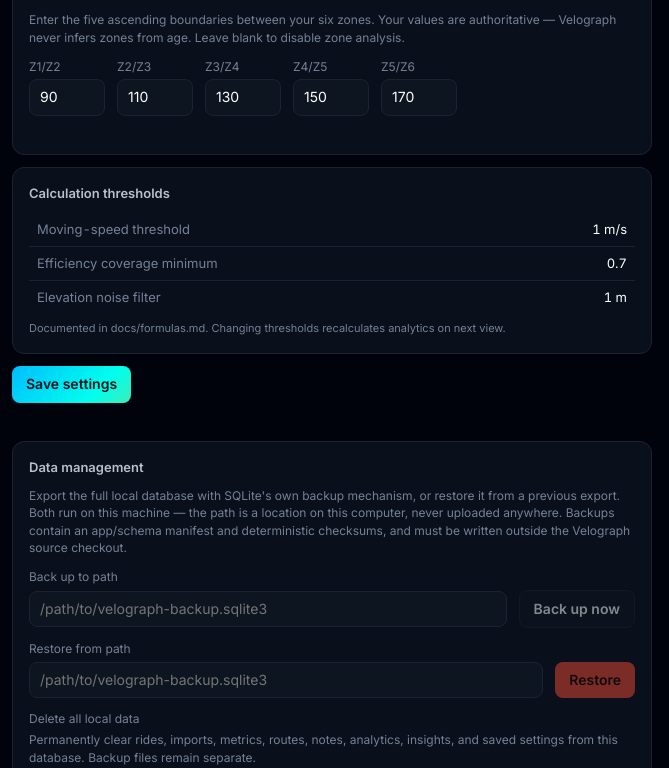
Test: Settings save feedback › submits null only when all five configured zone fields are explicitly blanked
The image size is (669, 768).
(page scrolled)
Clear the number field labelled "Z1/Z2": (67, 97) [29,79,105,116]
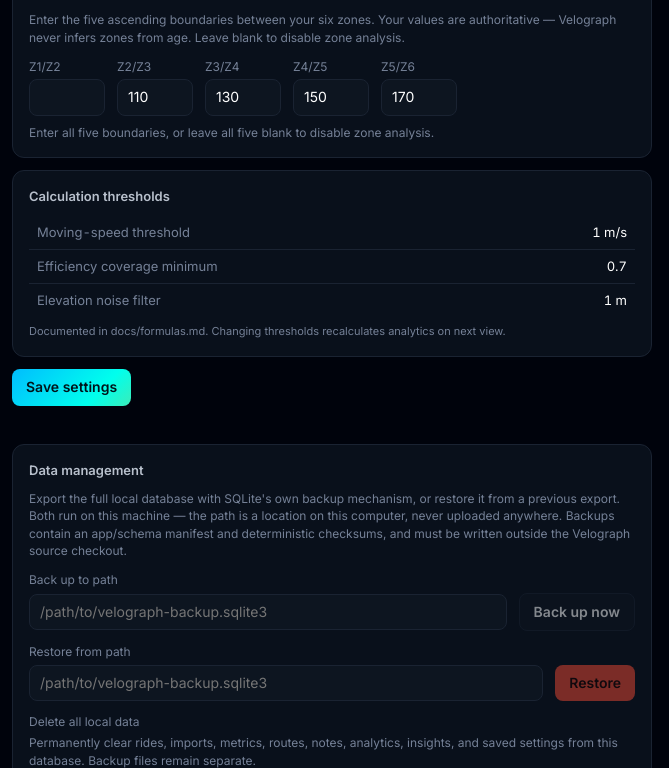
Clear the number field labelled "Z2/Z3": (155, 97) [117,79,193,116]
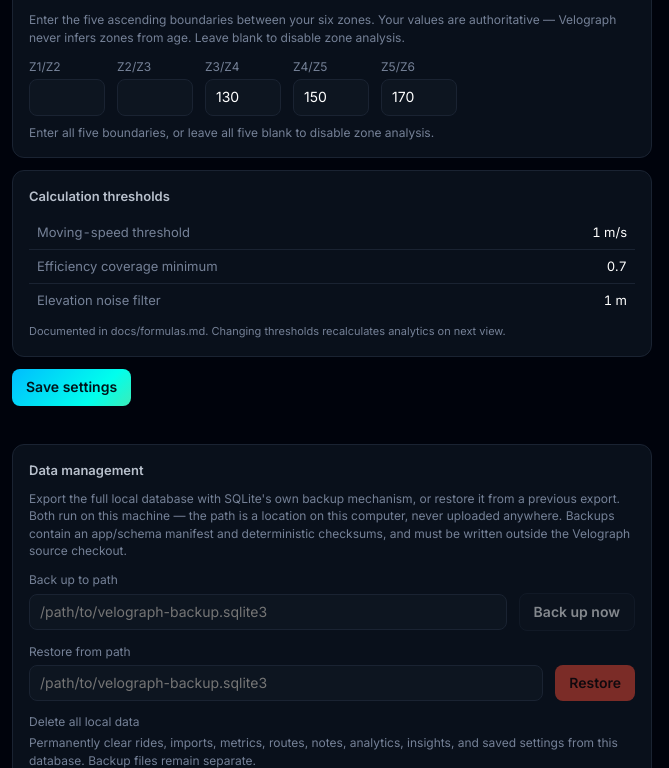
Clear the number field labelled "Z3/Z4": (243, 97) [205,79,281,116]
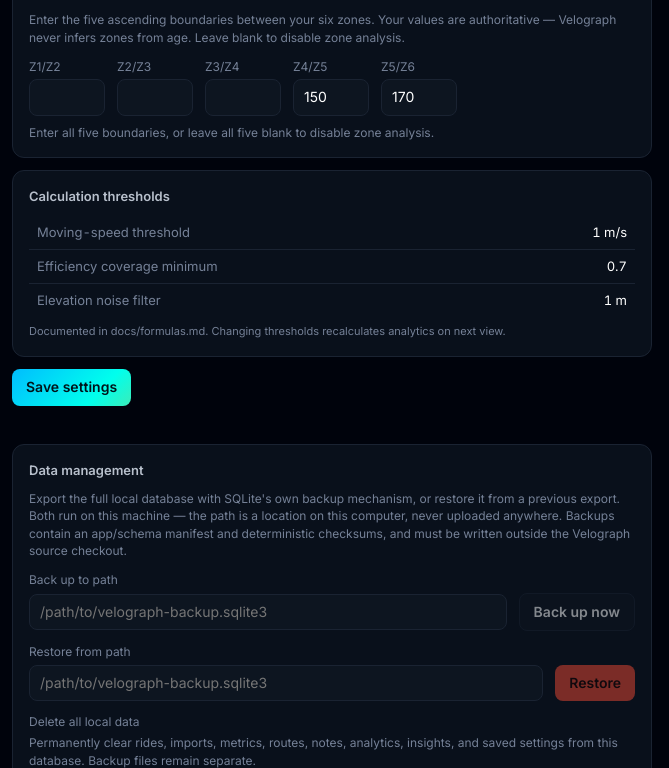
Clear the number field labelled "Z4/Z5": (331, 97) [293,79,369,116]
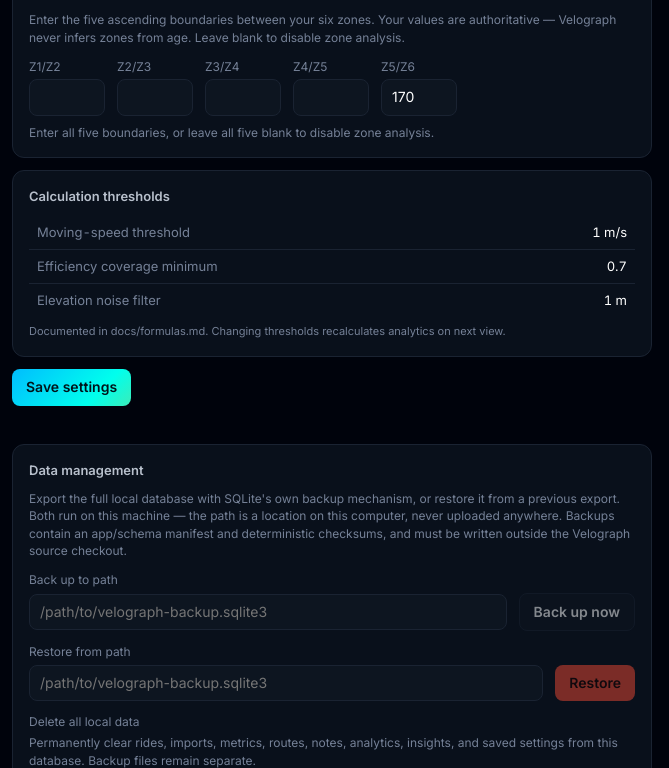
Clear the number field labelled "Z5/Z6": (419, 97) [381,79,457,116]
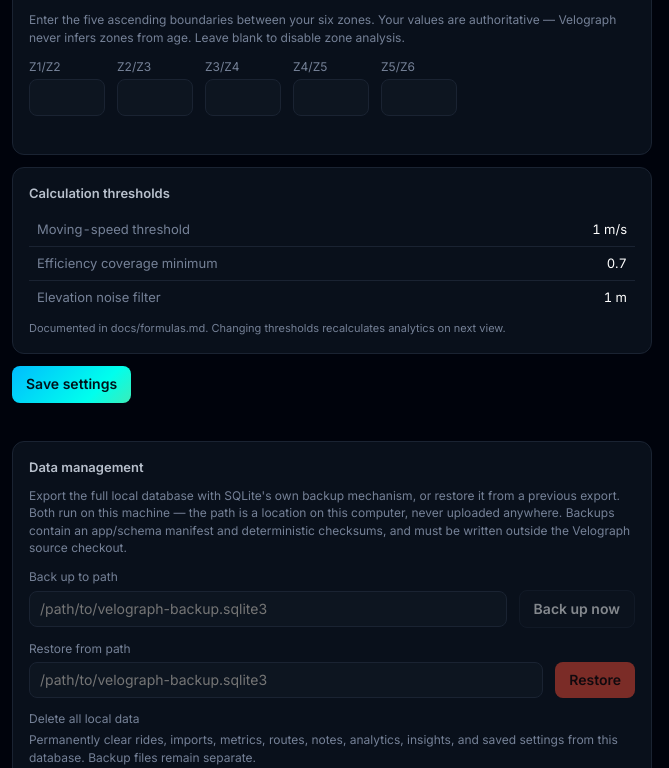
Click the button "Save settings": (72, 384) [12,366,131,403]
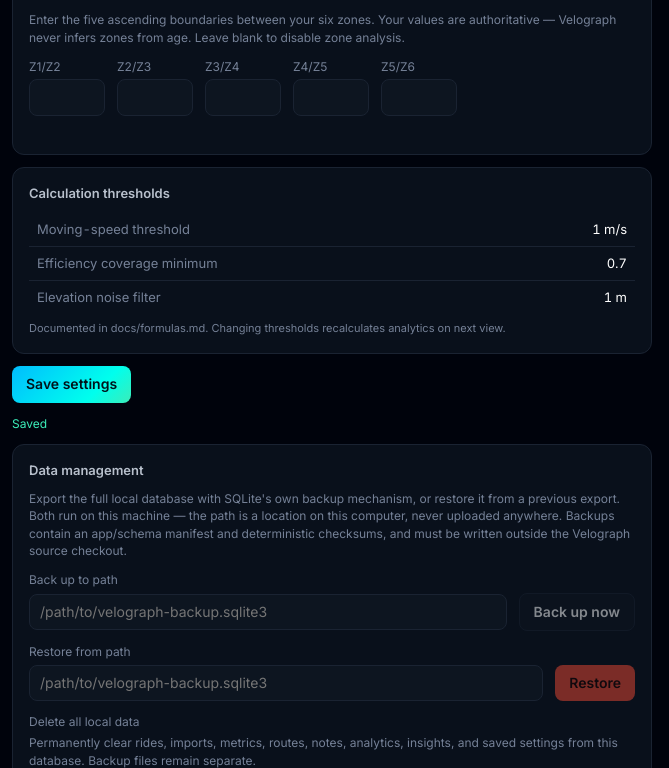
Result: the text "Saved" is shown at [12,416,47,431]
